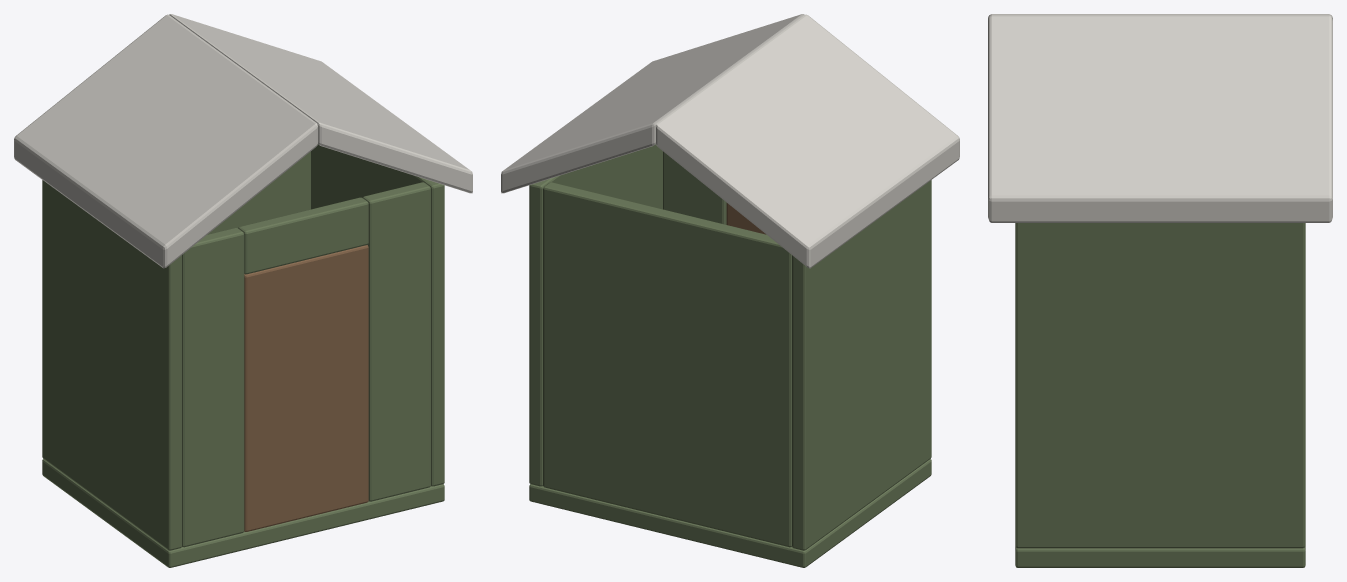
Rendered from SM_Kit_Prop_GardenShed.glb.
3 views of the same model, side by side, from view 1: azimuth 30°, elevation 25°; view 2: azimuth 150°, elevation 25°; view 3: azimuth 270°, elevation 25° (orthographic). The views are drawn at different scales.
Visible parts, largest first — view 1: SM_Kit_Prop_GardenShed; view 2: SM_Kit_Prop_GardenShed; view 3: SM_Kit_Prop_GardenShed.
Part boxes in pixels (x1=…): SM_Kit_Prop_GardenShed: x1=14, y1=14, x2=472, y2=567; SM_Kit_Prop_GardenShed: x1=501, y1=14, x2=959, y2=567; SM_Kit_Prop_GardenShed: x1=988, y1=14, x2=1332, y2=567.
Bounding box in the file's own units: 2.24 × 2.9 × 1.9.
